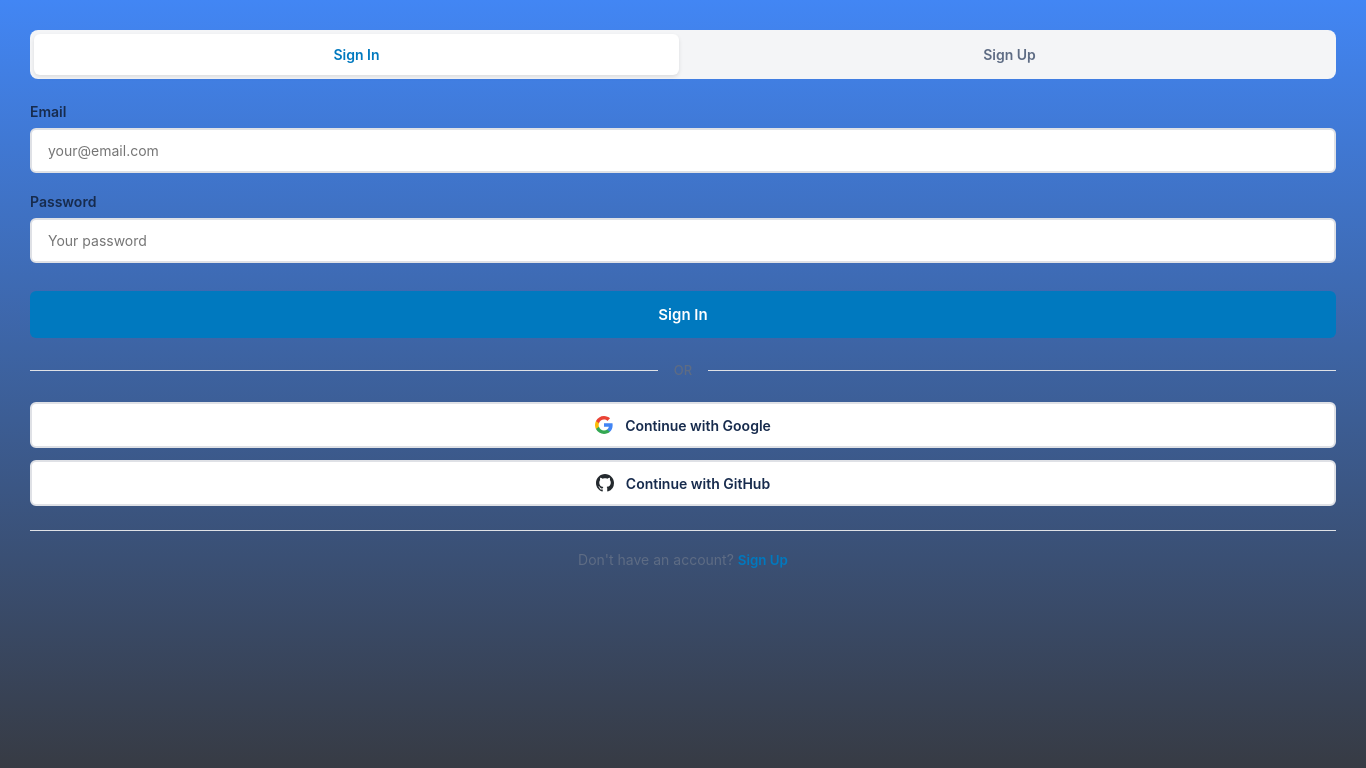
Test: AuthForm › should handle sign in error
Type "test@test.com" into the field labelled "Email".
click(683, 150); type("test@test.com")  # box [30,128,1336,173]
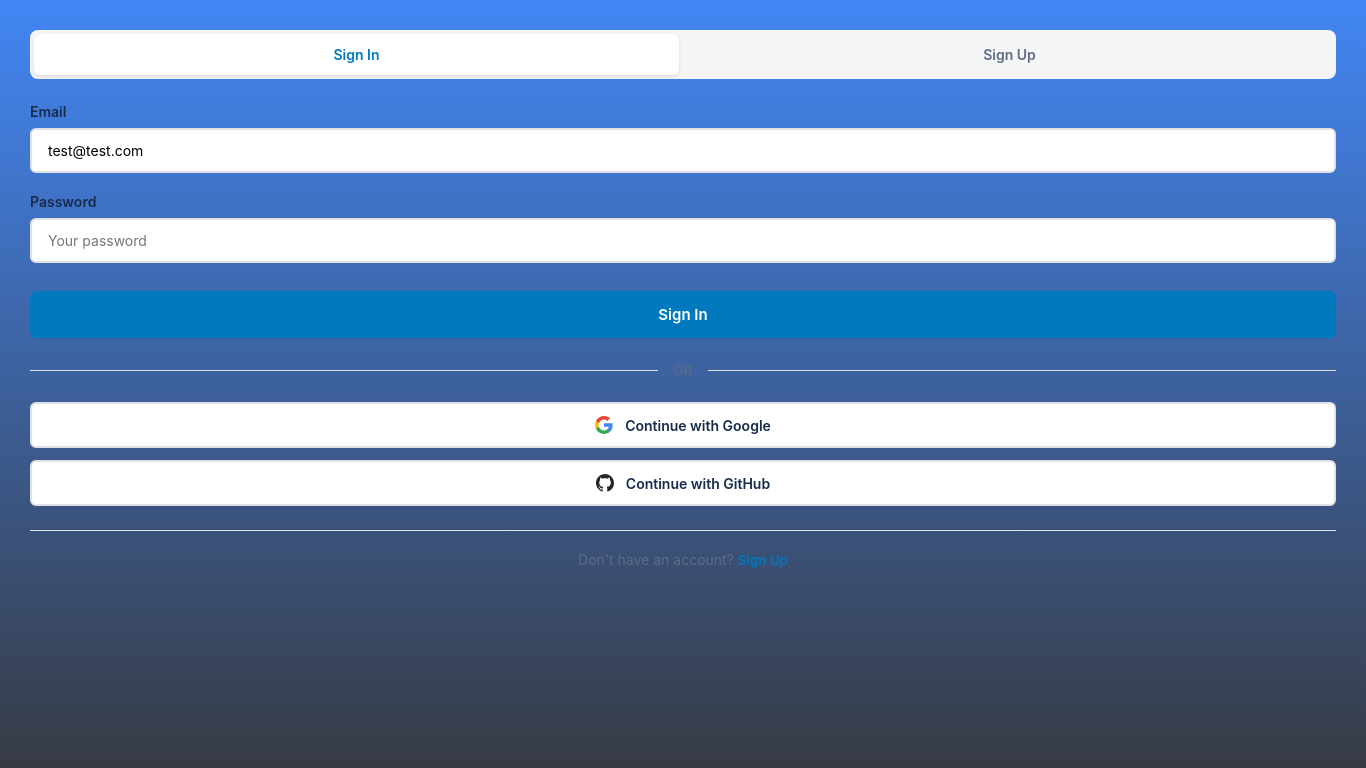
Type "wrong" into the password field labelled "Password".
click(683, 240); type("wrong")  # box [30,218,1336,263]
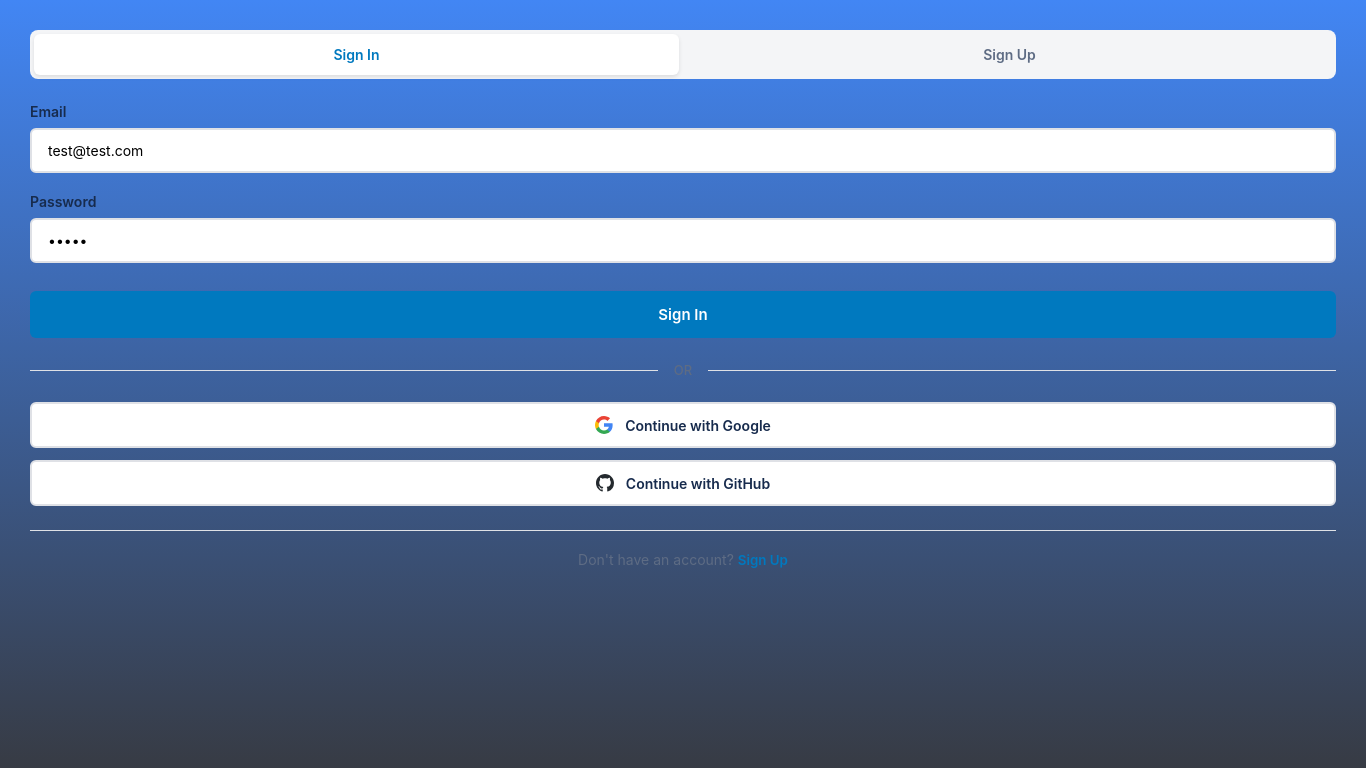
Submit the form with class "auth-form-content", box [30,103,1336,338]
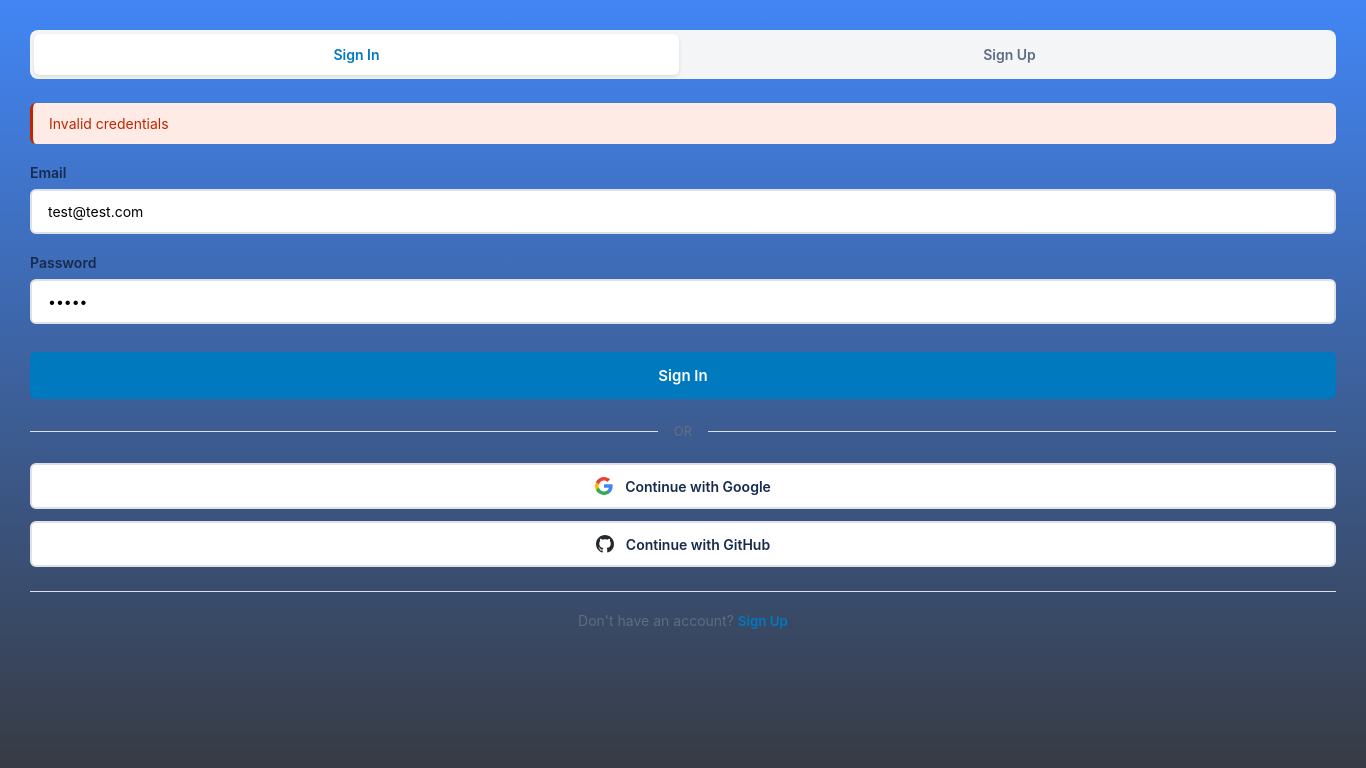
Check: the text "Invalid credentials" is shown, box [30,103,1336,144]
